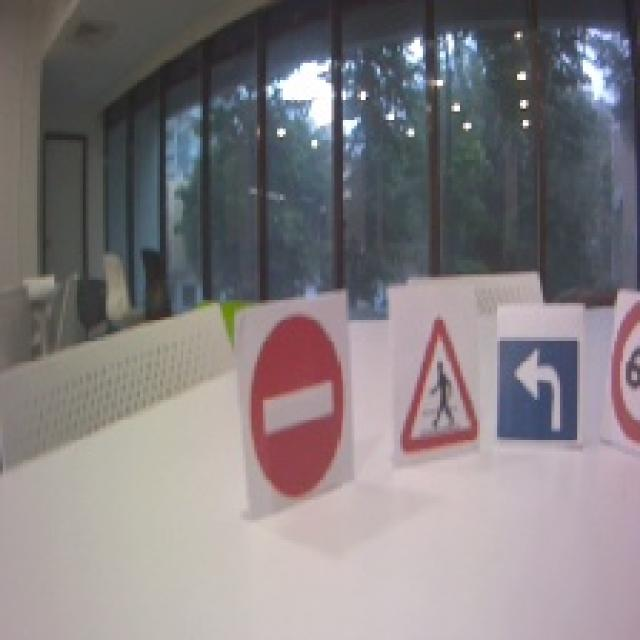DoNotEnterSign: (249, 311, 348, 498)
